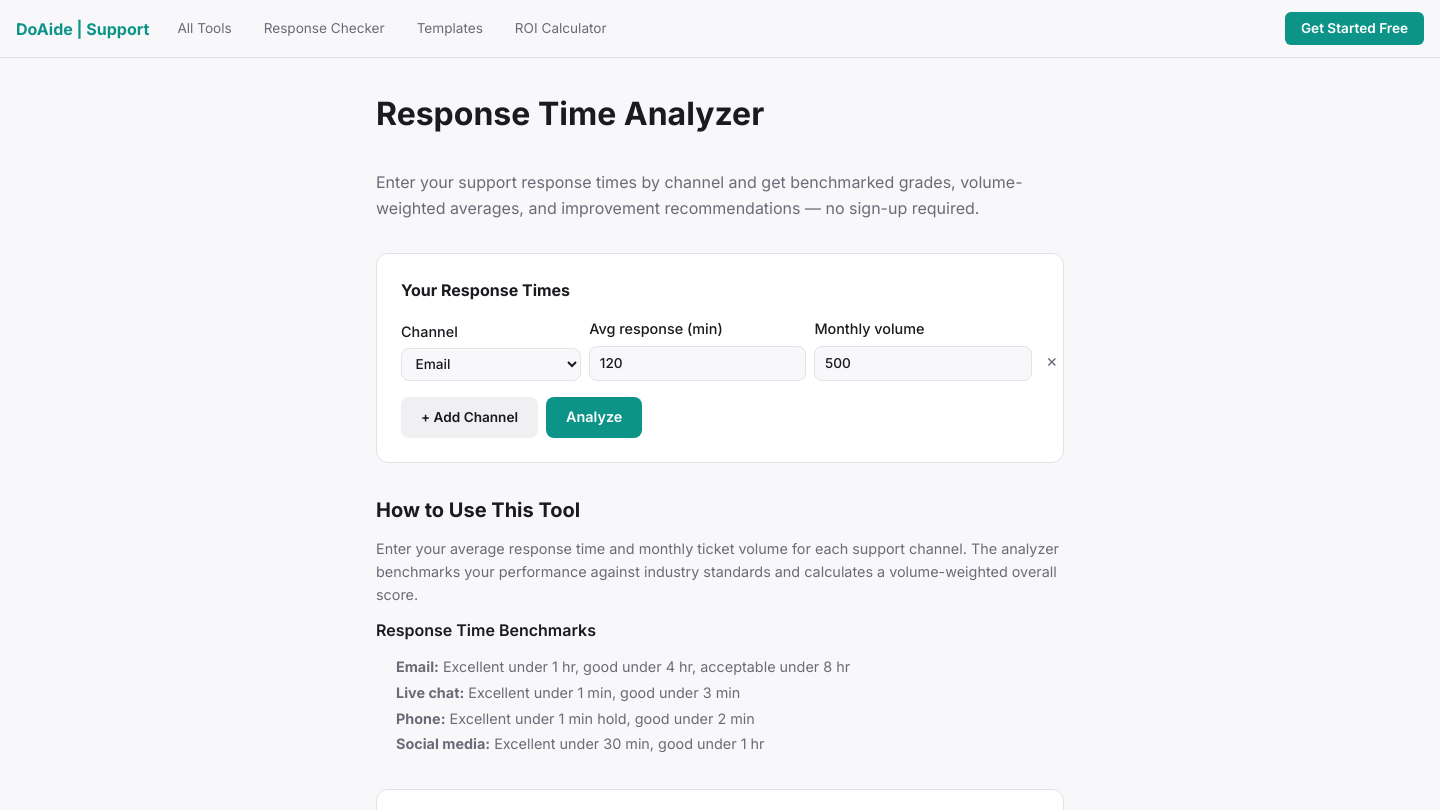
Test: ResponseTimeAnalyzerPage › analyzes response times on button click
The width and height of the screenshot is (1440, 810).
What coordinates should you click on to do the following:
click the button "Analyze"
I would click on:
 (594, 417)
Its box is [546,397,642,438].
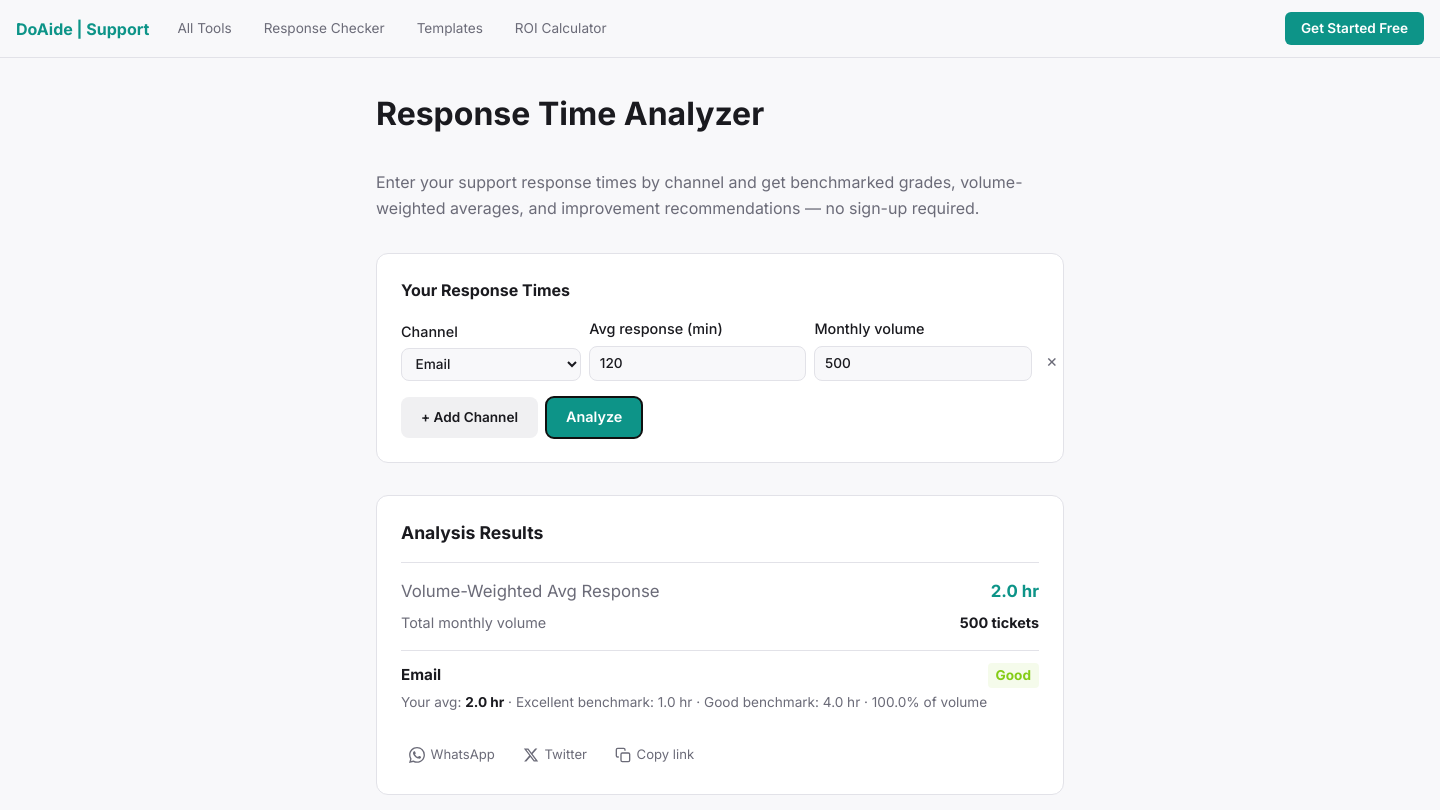
Expected: the heading "Analysis Results" is shown, [401,522,543,542]
Expected: the text "Volume-Weighted Avg Response" is shown, [401,579,660,604]
